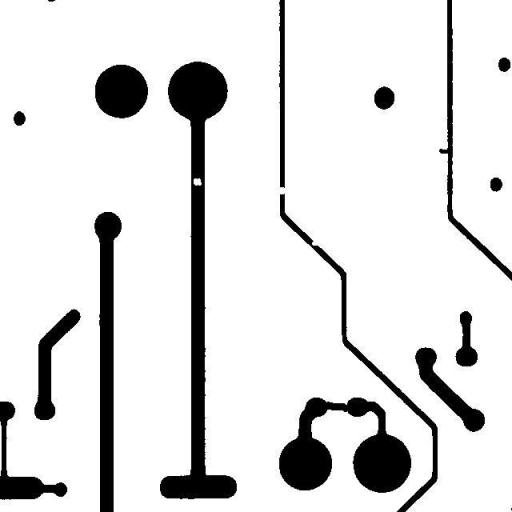mousebite: (304, 234, 326, 252)
open: (267, 179, 294, 202)
pin-hole: (186, 170, 208, 193)
short: (317, 394, 357, 419)
spur: (431, 141, 458, 161)
